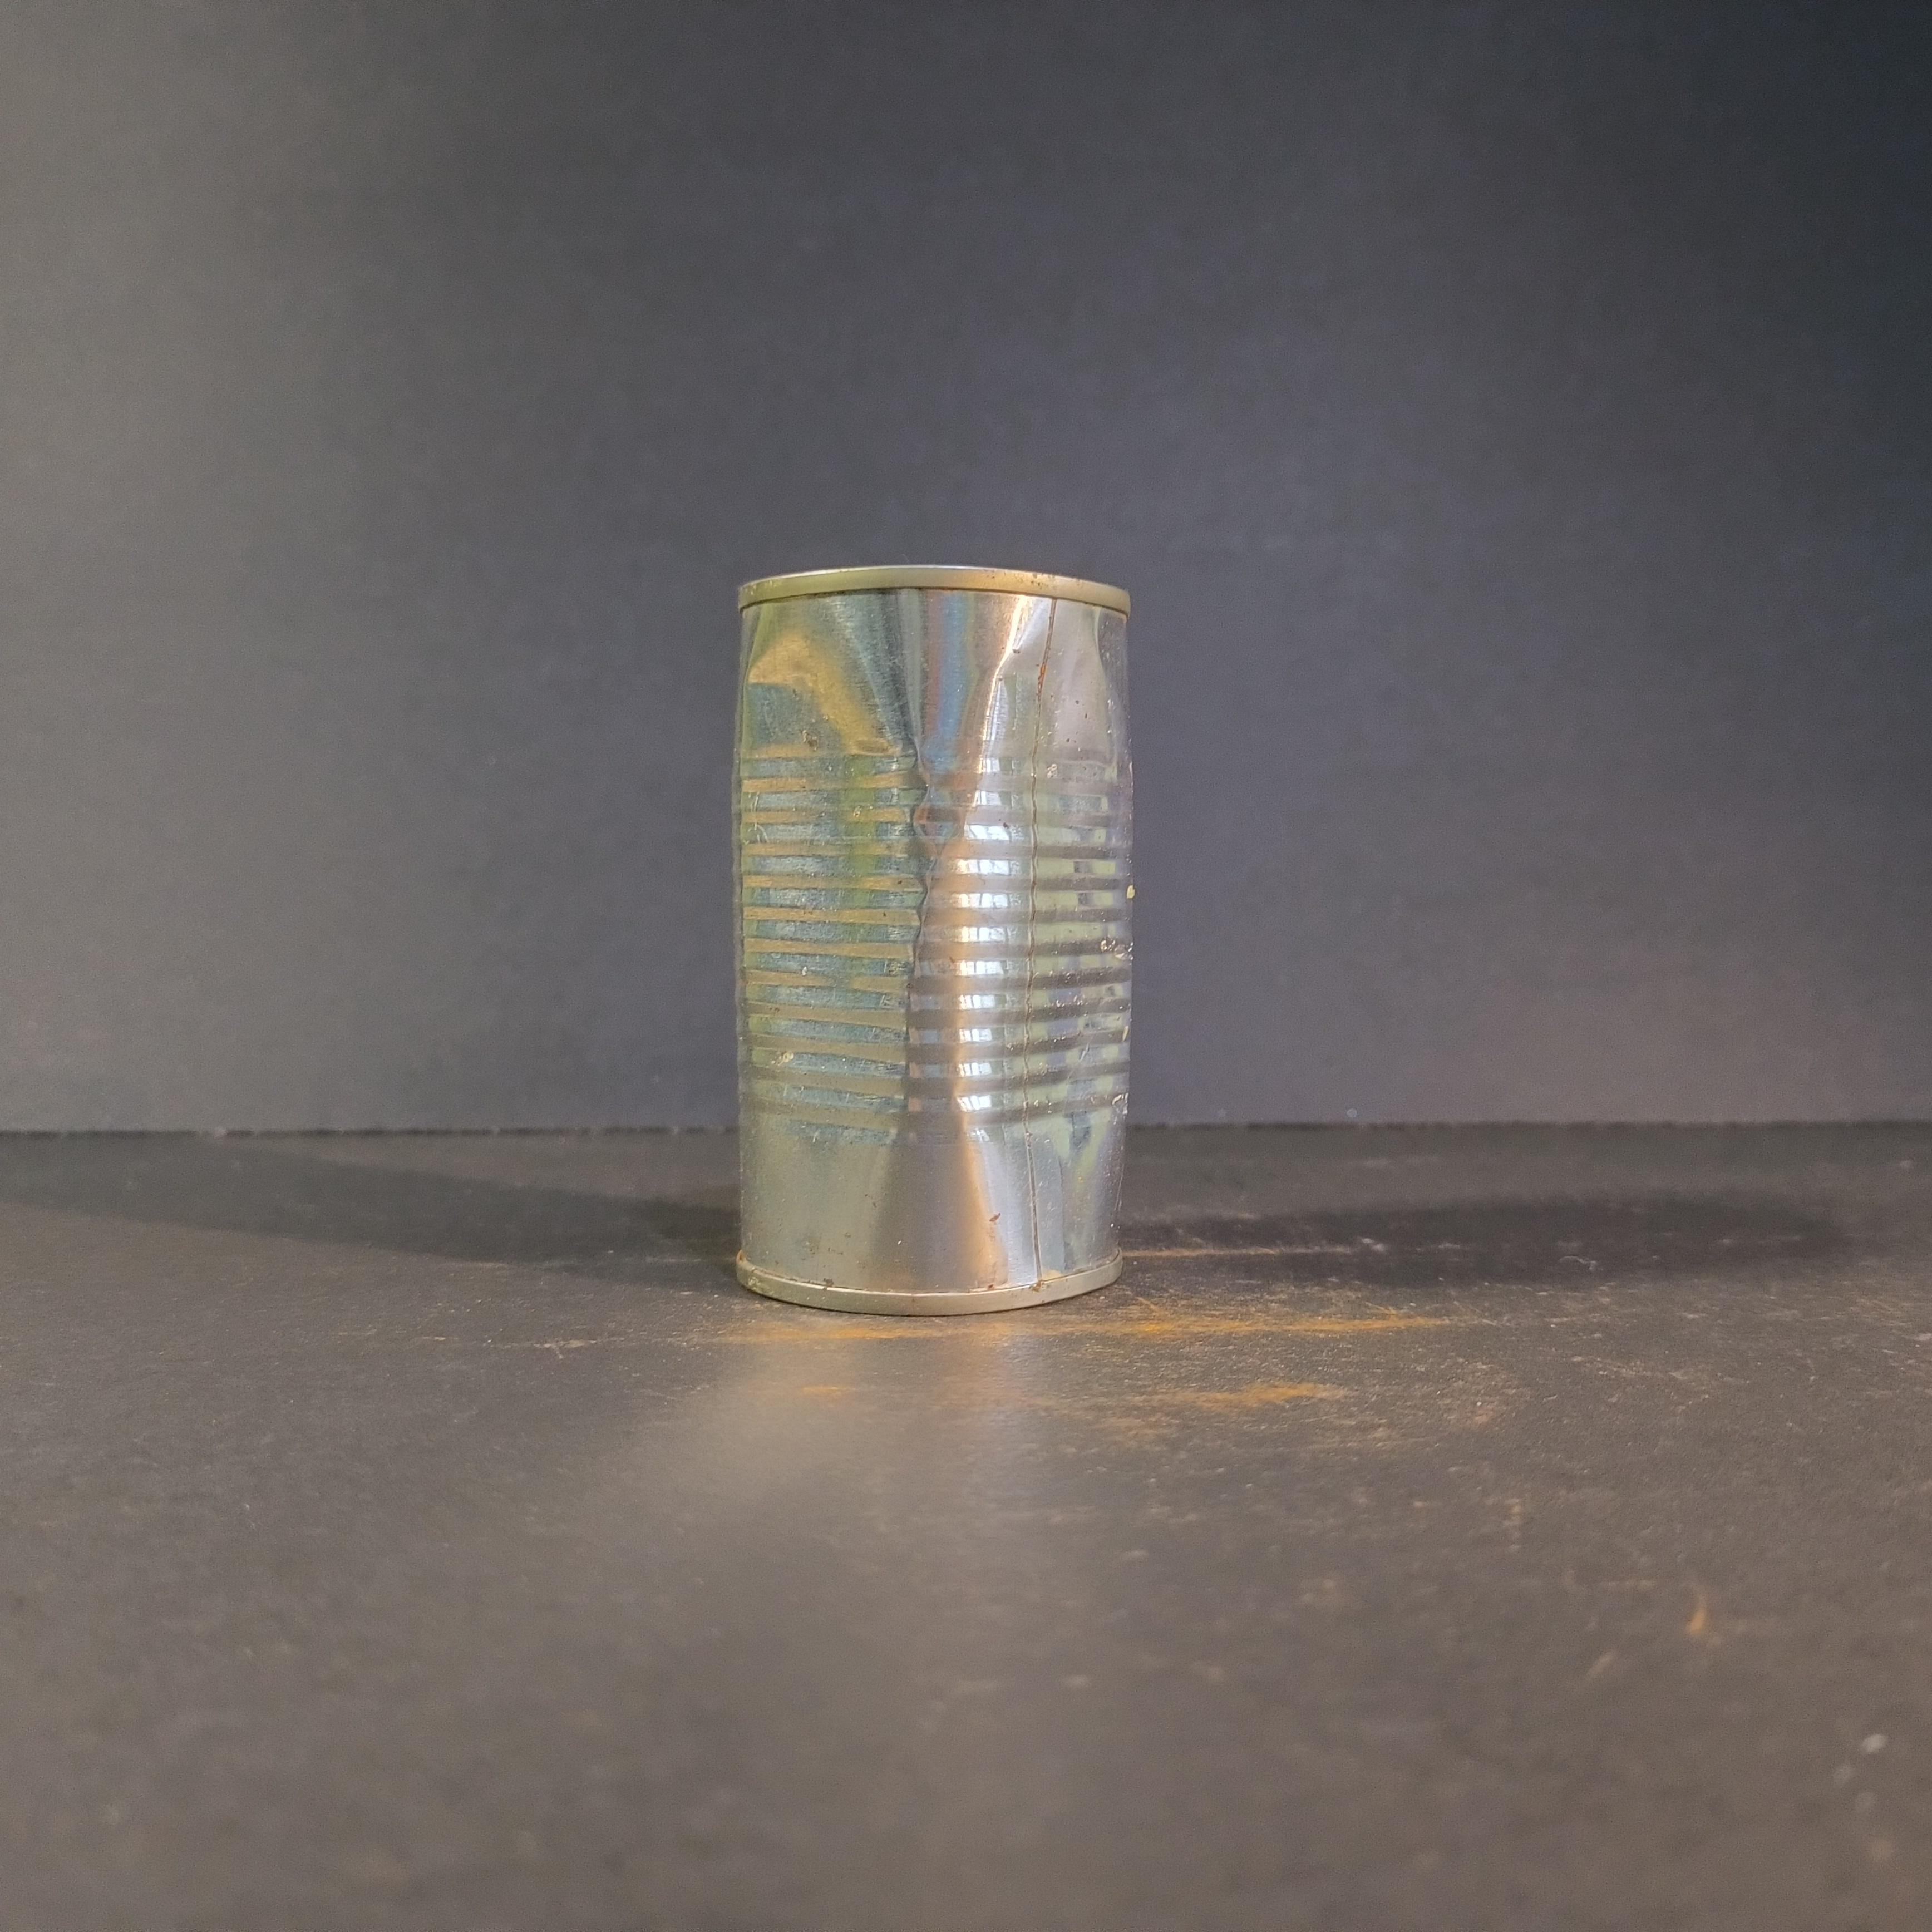Dented: (715, 531, 1166, 1338)
